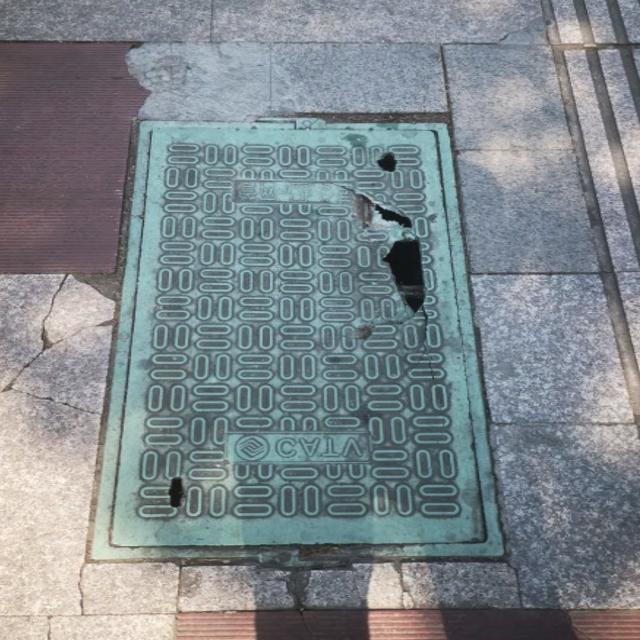broke: (93, 117, 507, 560)
